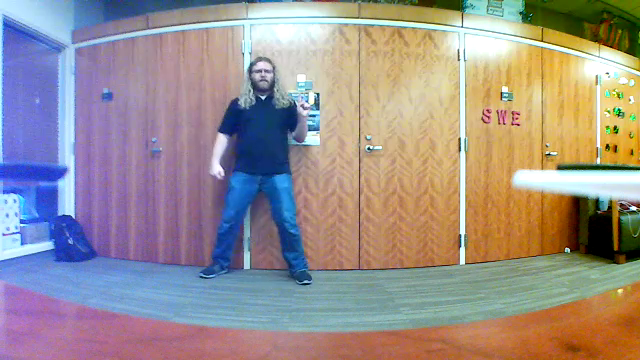up: (294, 85, 312, 118)
